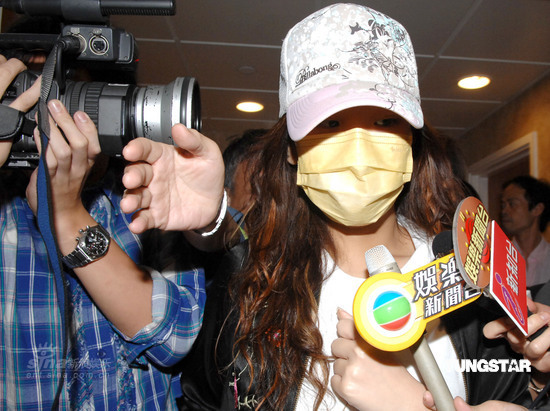face_mask: (292, 85, 412, 220), (493, 183, 536, 232)
